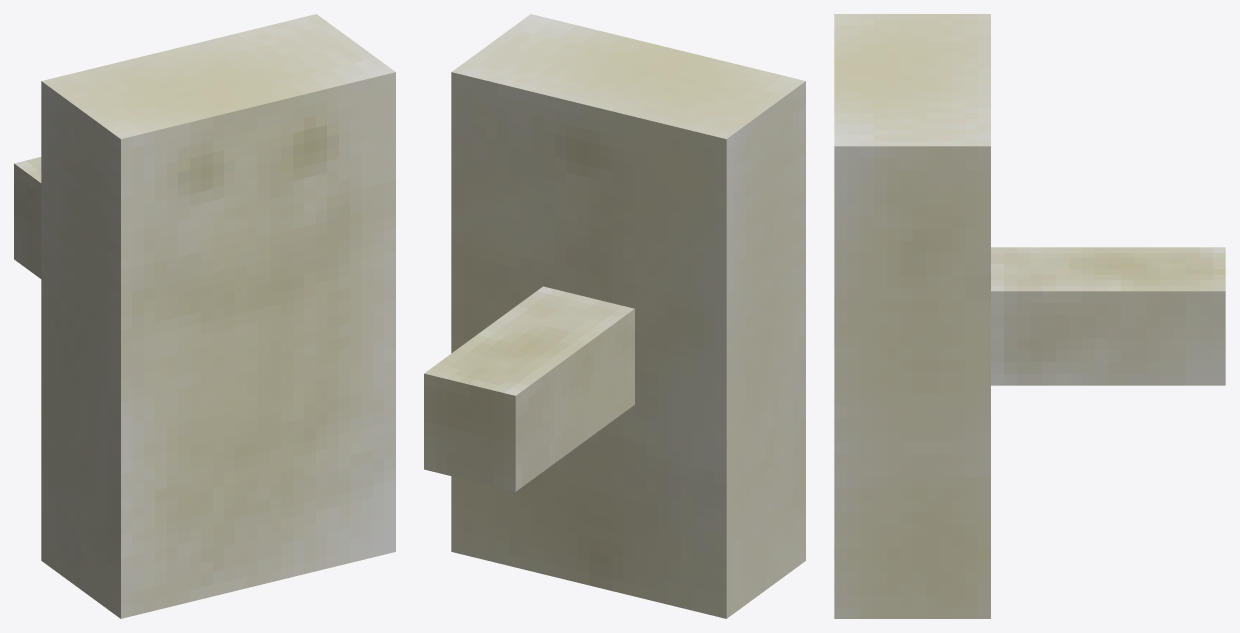
Rendered from lightSwitch.gltf.
3 renders of one model, left to right at view 1: azimuth 30°, elevation 25°; view 2: azimuth 150°, elevation 25°; view 3: azimuth 270°, elevation 25°, orthographic.
Visible parts, largest first — view 1: cuboid (×2); view 2: cuboid (×2); view 3: cuboid (×2).
Boxes of the visible parts, x1,y1,x2,y2 form: cuboid (×2): (14, 14, 395, 618); cuboid (×2): (424, 14, 805, 618); cuboid (×2): (834, 14, 1225, 618).
Size of the model in its own units: 0.75 by 1.25 by 0.9375.
1 material, 1 textured.
